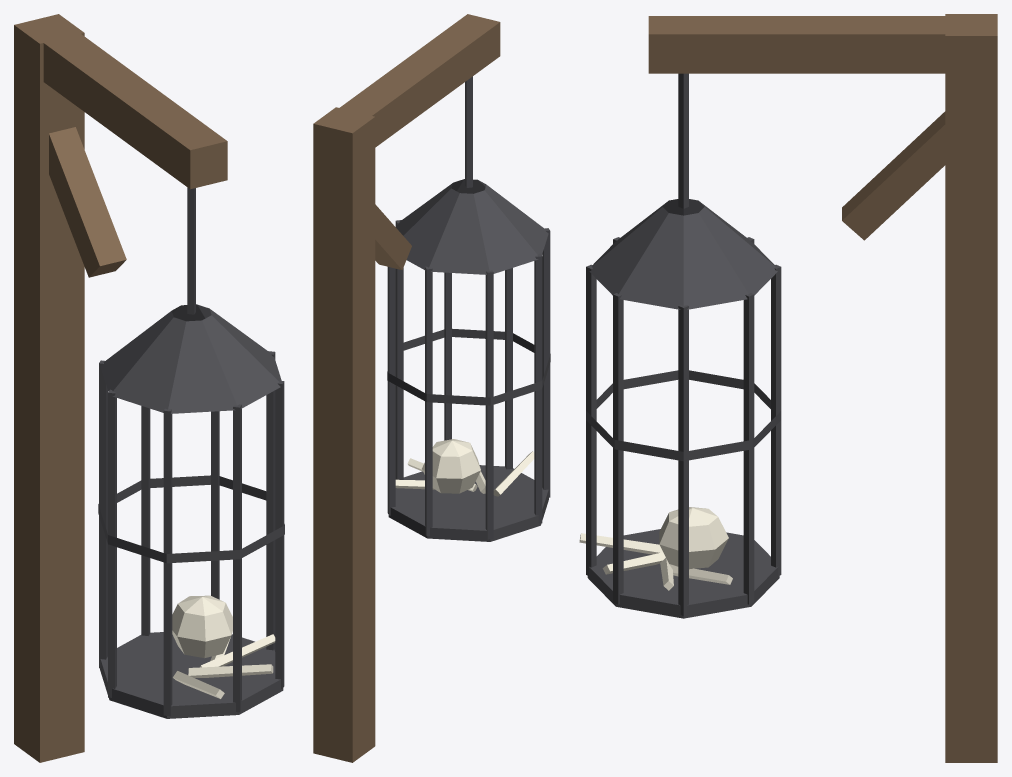
File: gibbet_cage.glb
3 renders of one model, left to right at view 1: azimuth 30°, elevation 25°; view 2: azimuth 150°, elevation 25°; view 3: azimuth 270°, elevation 25°, orthographic. The views are drawn at different scales.
Visible parts, largest first — view 1: gibbet_cage; view 2: gibbet_cage; view 3: gibbet_cage.
Part boxes in pixels (x1,y1,x2,y2): gibbet_cage: (14,14,284,762); gibbet_cage: (313,14,550,762); gibbet_cage: (579,14,997,762).
Bounding box in the file's own units: 1.12 × 4.6 × 2.4.
